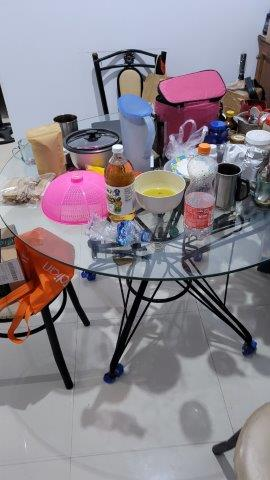botolplastik: (186, 144, 215, 239), (107, 145, 136, 217), (89, 216, 148, 247)
plastik: (167, 123, 204, 145)
